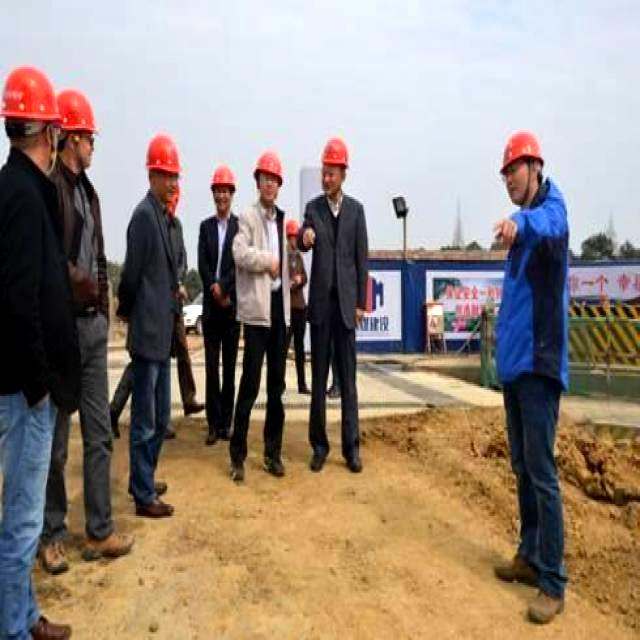hard_hat: (0, 65, 59, 120), (500, 130, 543, 175), (56, 89, 97, 132), (146, 132, 180, 175), (253, 150, 282, 183), (321, 136, 349, 169), (210, 165, 235, 191), (286, 219, 299, 236)
person: (43, 91, 131, 576), (0, 69, 65, 638), (495, 134, 568, 622), (119, 136, 184, 516), (303, 138, 367, 471), (230, 152, 287, 477), (197, 165, 239, 443), (286, 221, 308, 392)
